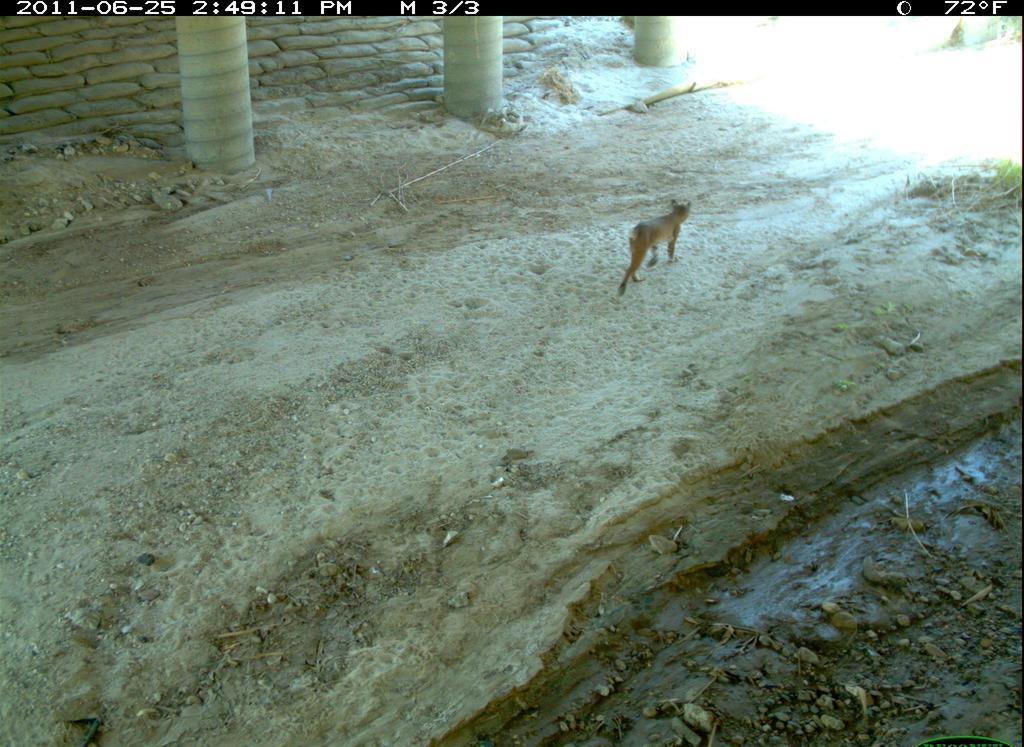bobcat: (615, 194, 710, 299)
